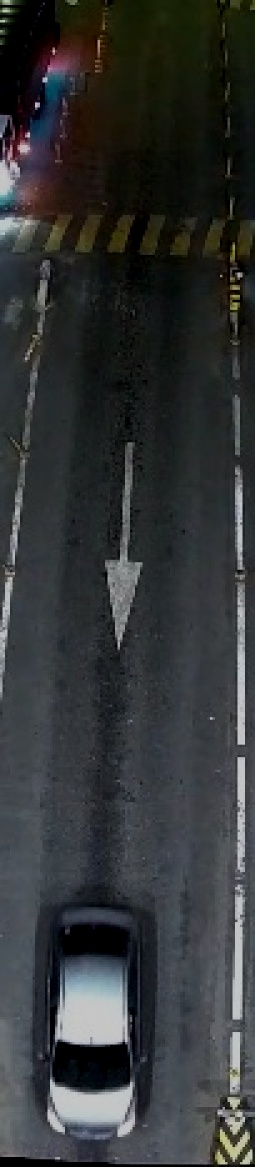car: (26, 891, 158, 1151)
